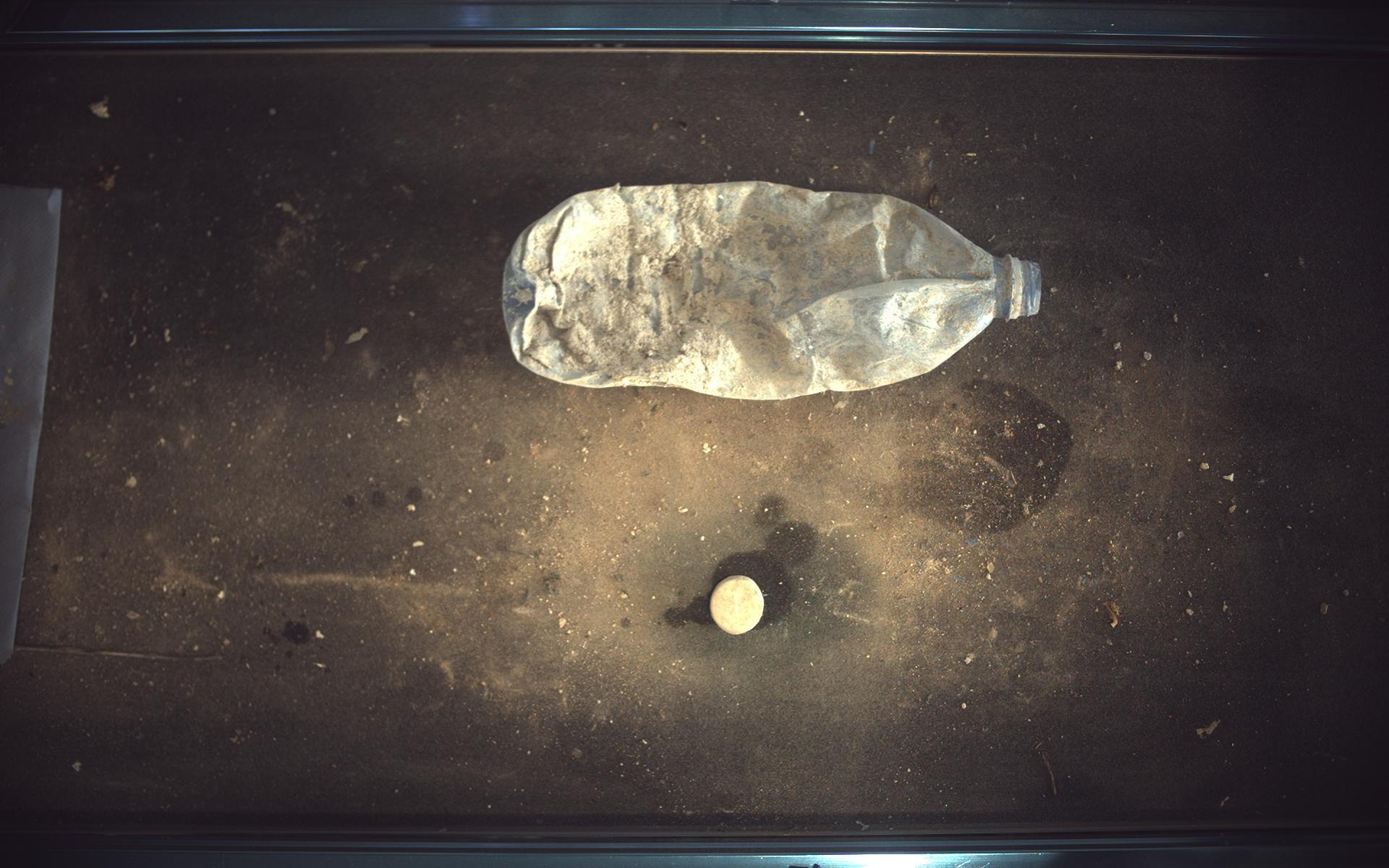general_w: (504, 181, 1044, 400), (710, 576, 765, 636)
